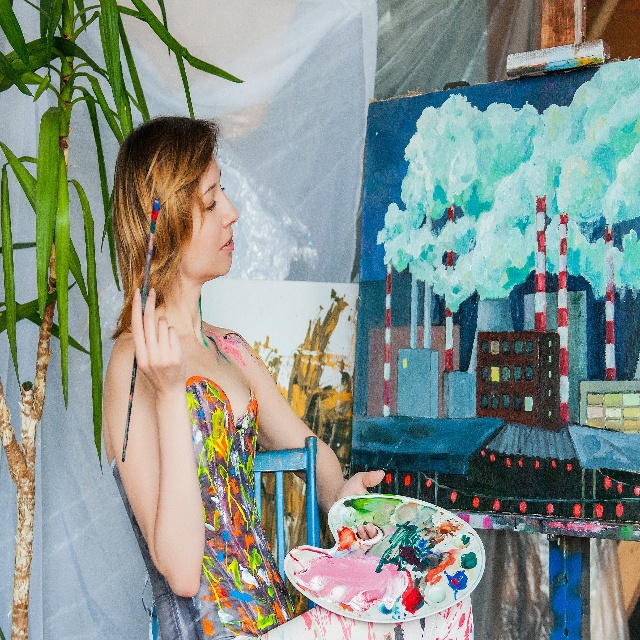Sin_guantes: (132, 287, 187, 398), (337, 468, 385, 540)
